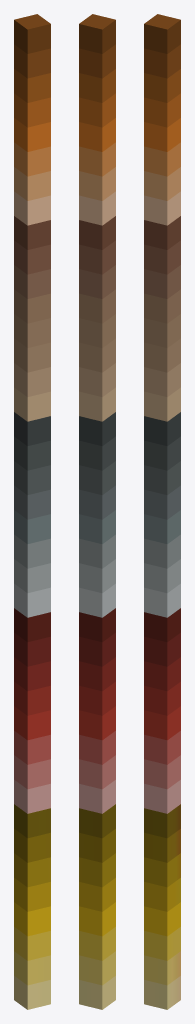
File: SoilLayer.fbx
3 renders of one model, left to right at view 1: azimuth 30°, elevation 25°; view 2: azimuth 150°, elevation 25°; view 3: azimuth 330°, elevation 25°, orthographic.
Visible parts, largest first — view 1: pCube1, pCube13, pCube11, pCube35, pCube38, pCube3, pCube4, pCube5, pCube30, pCube32, pCube33, pCube34 (+28 smaller); view 2: pCube1, pCube13, pCube11, pCube35, pCube38, pCube3, pCube4, pCube5, pCube30, pCube32, pCube33, pCube34 (+28 smaller); view 3: pCube1, pCube13, pCube11, pCube35, pCube38, pCube3, pCube4, pCube5, pCube30, pCube32, pCube33, pCube34 (+28 smaller).
Boxes of the visible parts, x1,y1,x2,y2 form: pCube1: [14, 14, 50, 53]; pCube13: [14, 142, 50, 176]; pCube11: [14, 191, 50, 225]; pCube35: [14, 755, 50, 789]; pCube38: [14, 829, 50, 862]; pCube3: [14, 69, 50, 102]; pCube4: [14, 93, 50, 127]; pCube5: [14, 118, 50, 151]; pCube30: [14, 632, 50, 666]; pCube32: [14, 681, 50, 715]; pCube33: [14, 706, 50, 740]; pCube34: [14, 731, 50, 764]; pCube1: [79, 14, 115, 53]; pCube13: [79, 142, 115, 176]; pCube11: [79, 191, 115, 225]; pCube35: [79, 755, 115, 789]; pCube38: [79, 829, 115, 862]; pCube3: [79, 69, 115, 102]; pCube4: [79, 93, 115, 127]; pCube5: [79, 118, 115, 151]; pCube30: [79, 632, 115, 666]; pCube32: [79, 681, 115, 715]; pCube33: [79, 706, 115, 740]; pCube34: [79, 731, 115, 764]; pCube1: [144, 14, 180, 53]; pCube13: [144, 142, 180, 176]; pCube11: [144, 191, 180, 225]; pCube35: [144, 755, 180, 789]; pCube38: [144, 829, 180, 862]; pCube3: [144, 69, 180, 102]; pCube4: [144, 93, 180, 127]; pCube5: [144, 118, 180, 151]; pCube30: [144, 632, 180, 666]; pCube32: [144, 681, 180, 715]; pCube33: [144, 706, 180, 740]; pCube34: [144, 731, 180, 764].
Bounding box in the file's own units: 200 × 8000 × 200.
